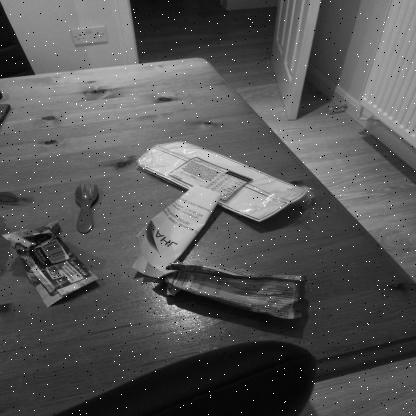paper: (130, 184, 222, 278)
plastic: (134, 140, 314, 224), (154, 262, 308, 322), (1, 219, 99, 309)
